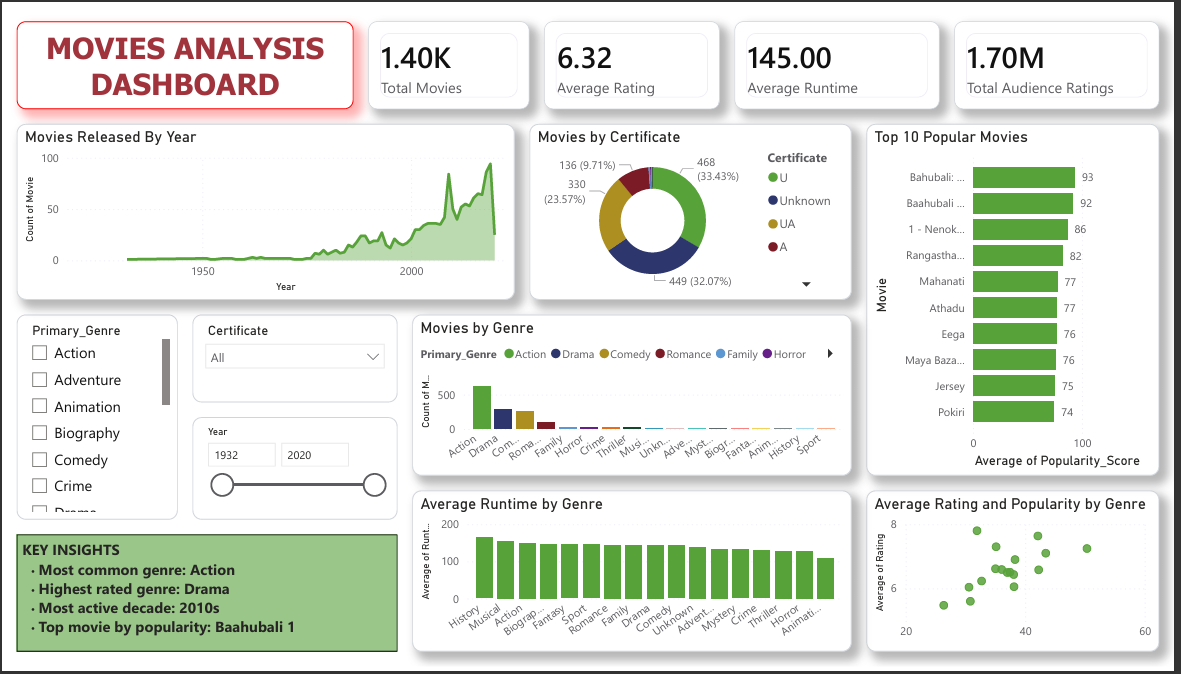

The page's visual inventory and layout, read from the dashboard file:
{"tool":"powerbi","page":{"name":"Page 1","canvas":[1280,720],"ordinal":0},"visuals":[{"type":"textbox","box":[16,16,368,96],"z":0},{"type":"cardVisual","fields":{"Data":["telugu_movies_cleaned.TotalMovies"]},"box":[400,16,176,96],"z":1000},{"type":"cardVisual","fields":{"Data":["telugu_movies_cleaned.Average Rating"]},"box":[592,16,192,96],"z":2000},{"type":"cardVisual","fields":{"Data":["telugu_movies_cleaned.Average Runtime"]},"box":[800,16,224,96],"z":3000},{"type":"cardVisual","fields":{"Data":["telugu_movies_cleaned.Total Audience Ratings"]},"box":[1040,16,224,96],"z":4000},{"type":"slicer","fields":{"Values":["telugu_movies_cleaned.Primary_Genre"]},"box":[16,336,176,224],"z":5000},{"type":"slicer","fields":{"Values":["telugu_movies_cleaned.Year"]},"box":[208,448,224,112],"z":6000},{"type":"slicer","fields":{"Values":["telugu_movies_cleaned.Certificate"]},"box":[208,336,224,96],"z":7000},{"type":"areaChart","title":"Movies Released By Year","fields":{"Category":["telugu_movies_cleaned.Year"],"Y":["CountNonNull(telugu_movies_cleaned.Movie)"]},"box":[16,128,544,192],"z":8000},{"type":"donutChart","title":"Movies by Certificate","fields":{"Y":["CountNonNull(telugu_movies_cleaned.Movie)"],"Category":["telugu_movies_cleaned.Certificate"]},"box":[576,128,352,192],"z":9000},{"type":"scatterChart","title":"Average Rating and Popularity by Genre","fields":{"Category":["telugu_movies_cleaned.Primary_Genre"],"X":["Avg(telugu_movies_cleaned.Popularity_Score)"],"Y":["Avg(telugu_movies_cleaned.Rating)"]},"box":[944,528,320,176],"z":10000},{"type":"textbox","box":[16,576,416,128],"z":11000},{"type":"clusteredBarChart","title":"Top 10 Popular Movies","fields":{"Category":["telugu_movies_cleaned.Movie"],"Y":["Avg(telugu_movies_cleaned.Popularity_Score)"]},"box":[944,128,320,384],"z":12000},{"type":"clusteredColumnChart","title":"Average Runtime by Genre","fields":{"Y":["Avg(telugu_movies_cleaned.Runtime)"],"Category":["telugu_movies_cleaned.Primary_Genre"]},"box":[448,528,480,176],"z":13000},{"type":"columnChart","title":"Movies by Genre","fields":{"Y":["CountNonNull(telugu_movies_cleaned.Movie)"],"Category":["telugu_movies_cleaned.Primary_Genre"],"Series":["telugu_movies_cleaned.Primary_Genre"]},"box":[448,336,480,176],"z":14000}]}

Visuals, with their boxes in screenshot pixels (x1, y1, x2, y2), scaled from the page's 1280x720 canvas onto the 1181x674 screenshot:
textbox: left=15, top=15, right=354, bottom=105
cardVisual - telugu_movies_cleaned.TotalMovies: left=369, top=15, right=531, bottom=105
cardVisual - telugu_movies_cleaned.Average Rating: left=546, top=15, right=723, bottom=105
cardVisual - telugu_movies_cleaned.Average Runtime: left=738, top=15, right=945, bottom=105
cardVisual - telugu_movies_cleaned.Total Audience Ratings: left=960, top=15, right=1166, bottom=105
slicer - telugu_movies_cleaned.Primary_Genre: left=15, top=315, right=177, bottom=524
slicer - telugu_movies_cleaned.Year: left=192, top=419, right=399, bottom=524
slicer - telugu_movies_cleaned.Certificate: left=192, top=315, right=399, bottom=404
"Movies Released By Year" areaChart: left=15, top=120, right=517, bottom=300
"Movies by Certificate" donutChart: left=531, top=120, right=856, bottom=300
"Average Rating and Popularity by Genre" scatterChart: left=871, top=494, right=1166, bottom=659
textbox: left=15, top=539, right=399, bottom=659
"Top 10 Popular Movies" clusteredBarChart: left=871, top=120, right=1166, bottom=479
"Average Runtime by Genre" clusteredColumnChart: left=413, top=494, right=856, bottom=659
"Movies by Genre" columnChart: left=413, top=315, right=856, bottom=479
